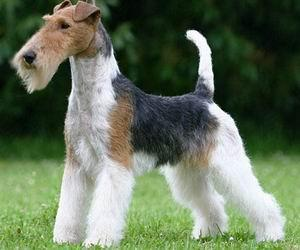wire-haired_fox_terrier: (8, 0, 288, 247)
